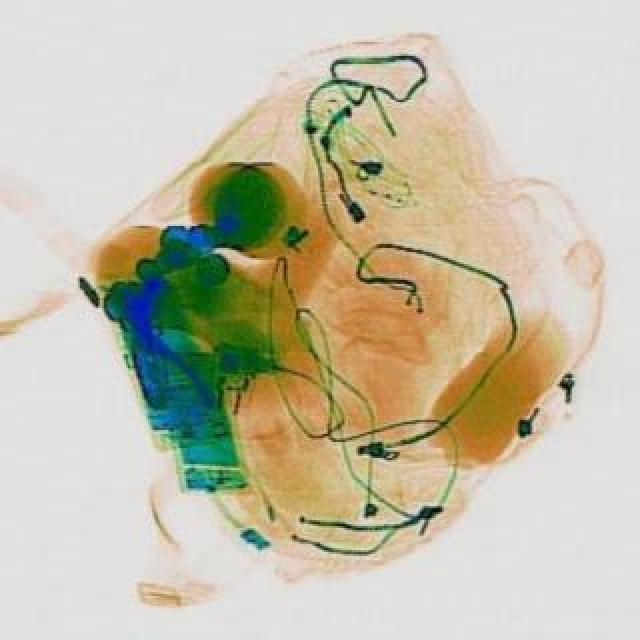wrench: (100, 280, 216, 424)
